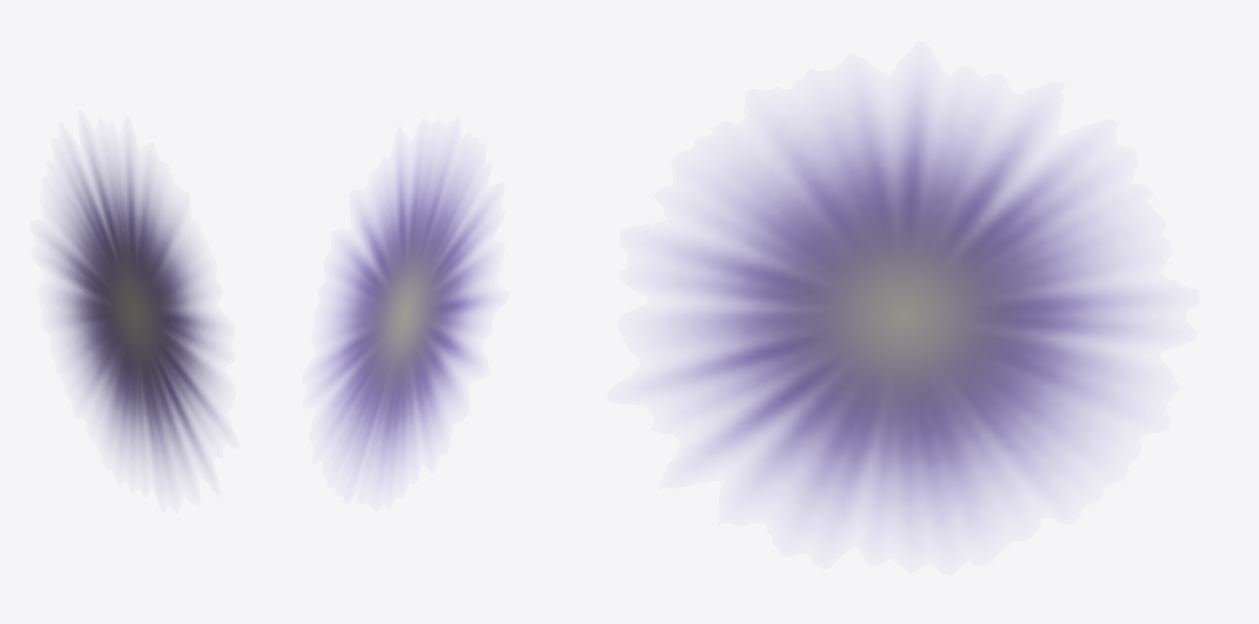
Rendered from mana.gltf.
The picture shows the model from 3 angles, left to right: view 1: azimuth 30°, elevation 25°; view 2: azimuth 150°, elevation 25°; view 3: azimuth 270°, elevation 25°; orthographic projection. The views are drawn at different scales.
Visible parts, largest first — view 1: mana; view 2: mana; view 3: mana.
Boxes of the visible parts, x1,y1,x2,y2 form: mana: (50,151,218,472); mana: (321,157,487,473); mana: (667,95,1143,523).
Bounding box in the file's own units: 0.0017 × 0.4726 × 0.4962.
Materials: 1 (1 with a texture image).
